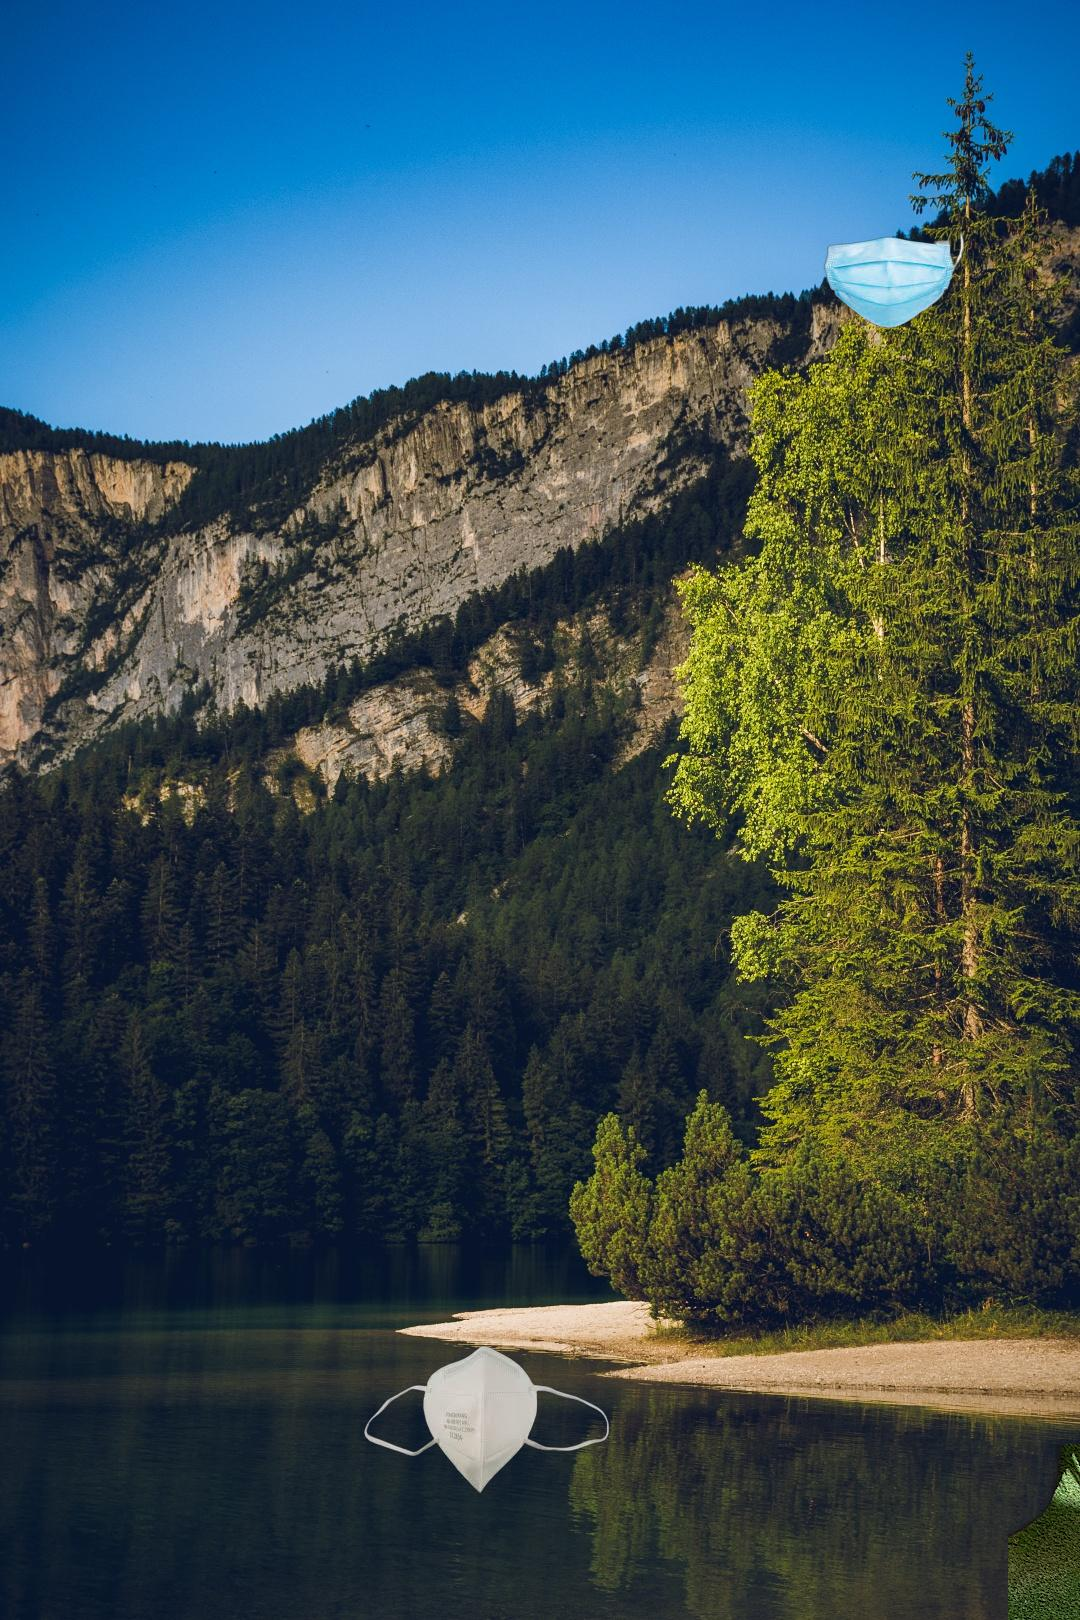biological: (387, 717, 662, 900)
glass: (1008, 1444, 1080, 1620)
penholder: (939, 1613, 1080, 1620)
trash: (360, 1343, 612, 1496), (816, 223, 967, 331)
